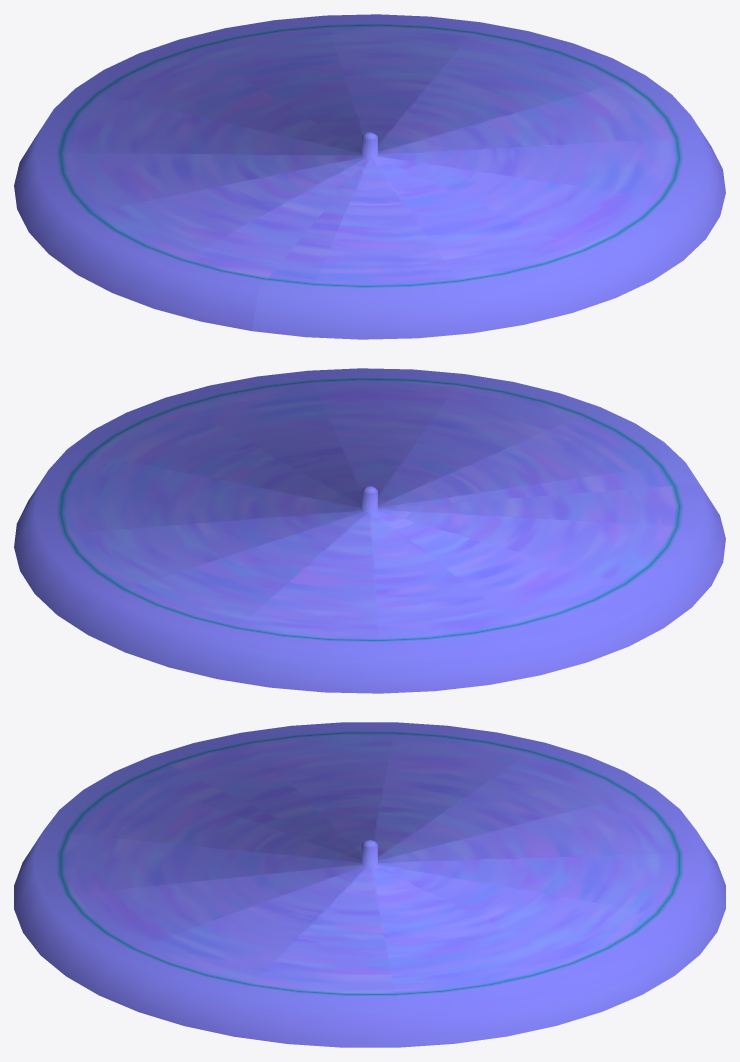
File: RecordBaseEmpty.fbx
3 renders of one model, top to bottom at view 1: azimuth 30°, elevation 25°; view 2: azimuth 150°, elevation 25°; view 3: azimuth 270°, elevation 25°, orthographic.
Visible parts, largest first — view 1: MappedRecordP.004; view 2: MappedRecordP.004; view 3: MappedRecordP.004.
Part boxes in pixels (<box>): MappedRecordP.004: <box>14,14,725,339</box>; MappedRecordP.004: <box>14,368,725,693</box>; MappedRecordP.004: <box>14,722,725,1047</box>.
Size of the model in its own units: 30.93 by 30.93 by 2.67.
